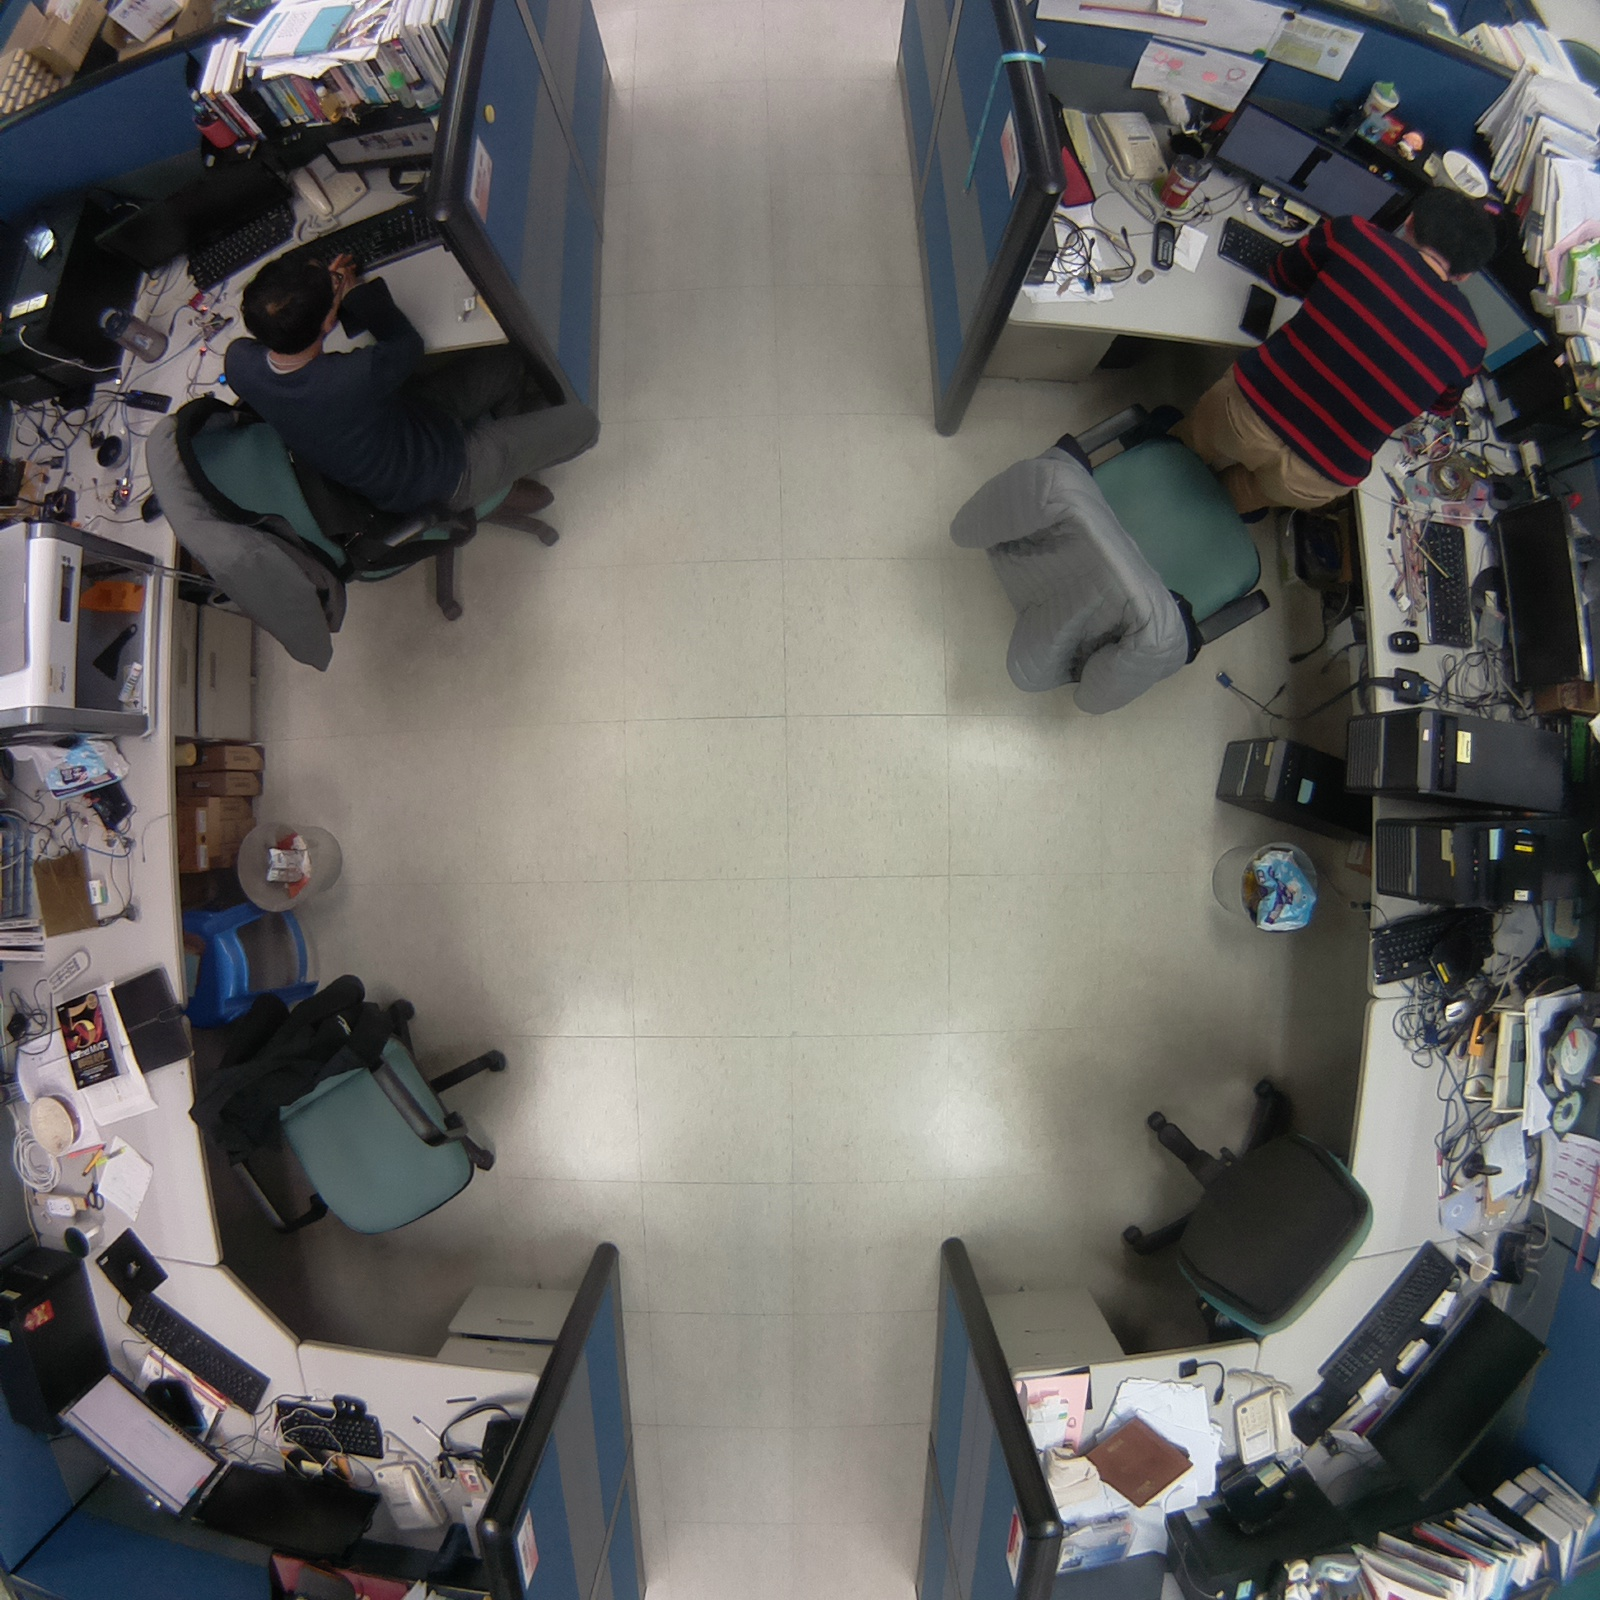chair: (945, 378, 1276, 729), (178, 965, 535, 1260), (1099, 1055, 1391, 1368)
head: (232, 246, 342, 363), (1389, 180, 1506, 285)
sitting: (132, 243, 606, 678)
standing: (1178, 174, 1488, 521)
